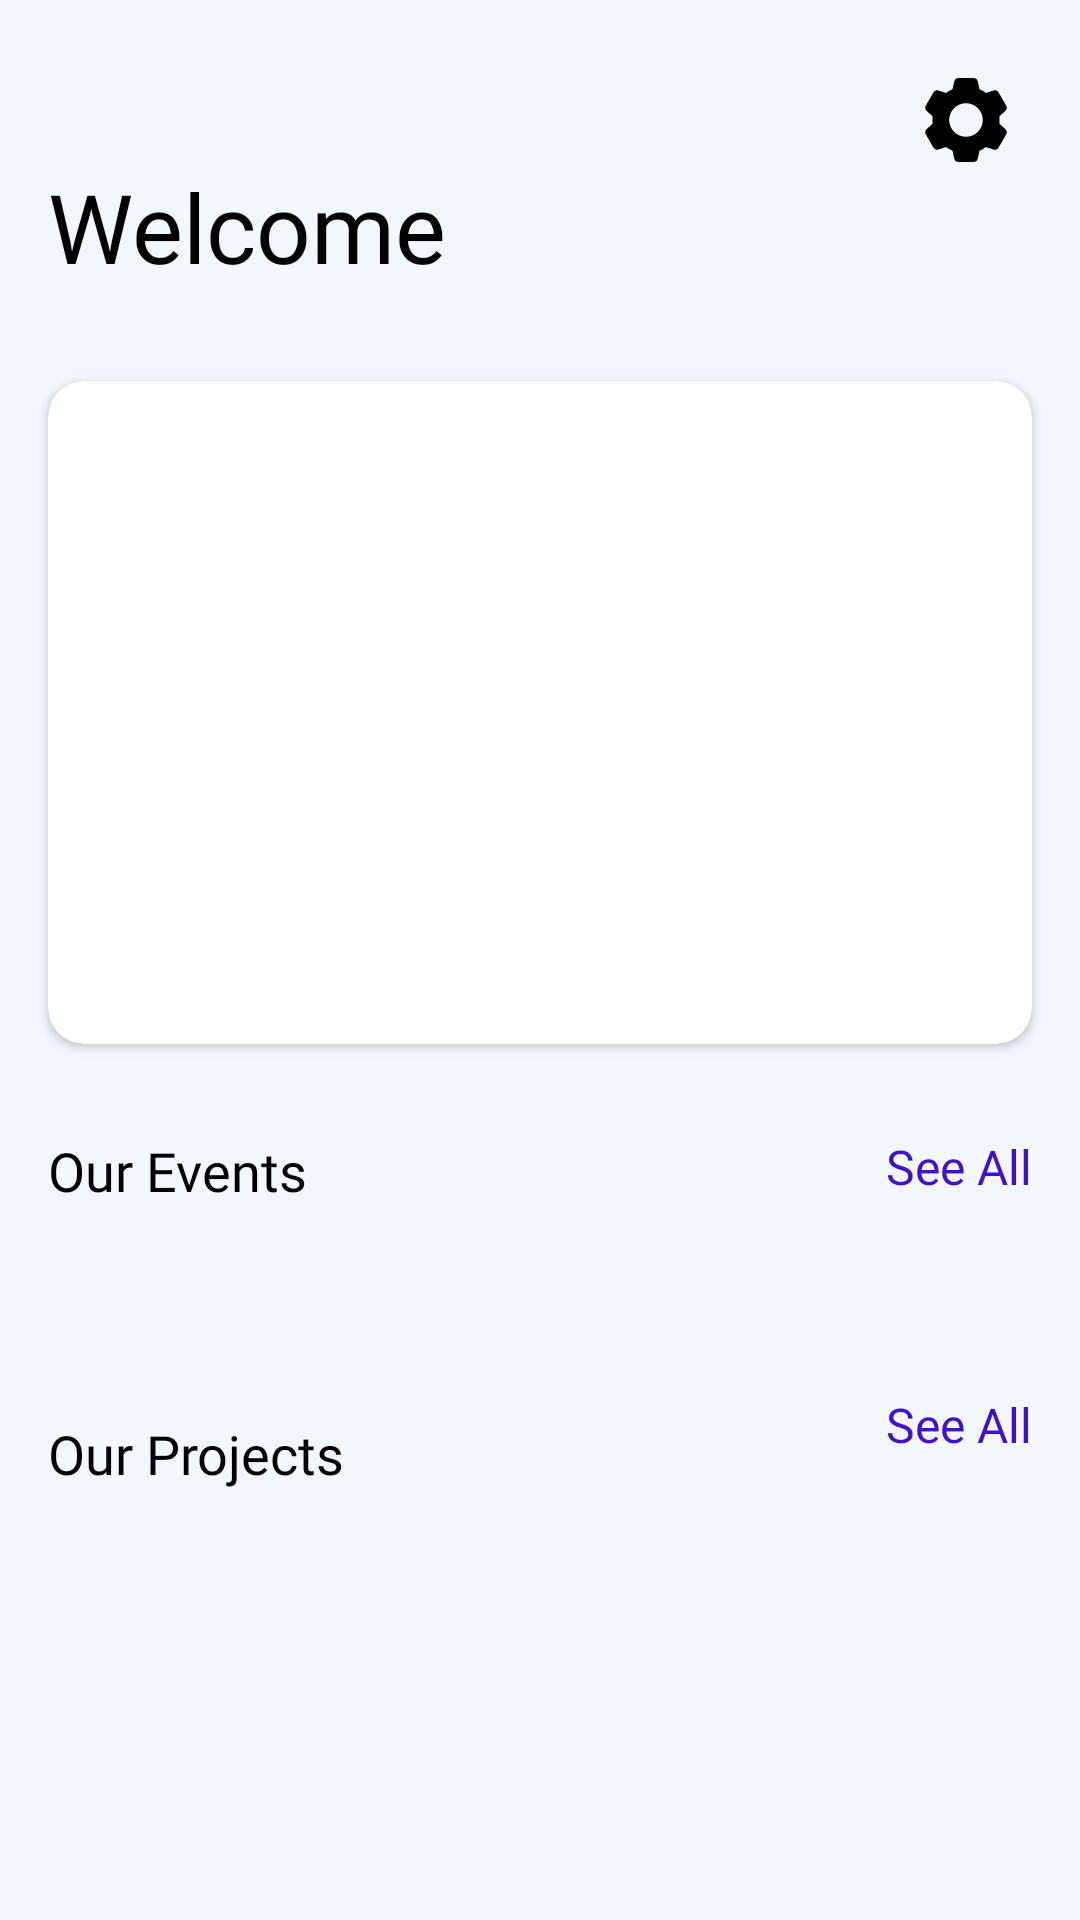

Point at icon controls on the screen. Image size 1080*1920, points as point (x, y).
settings: point (966, 120)
